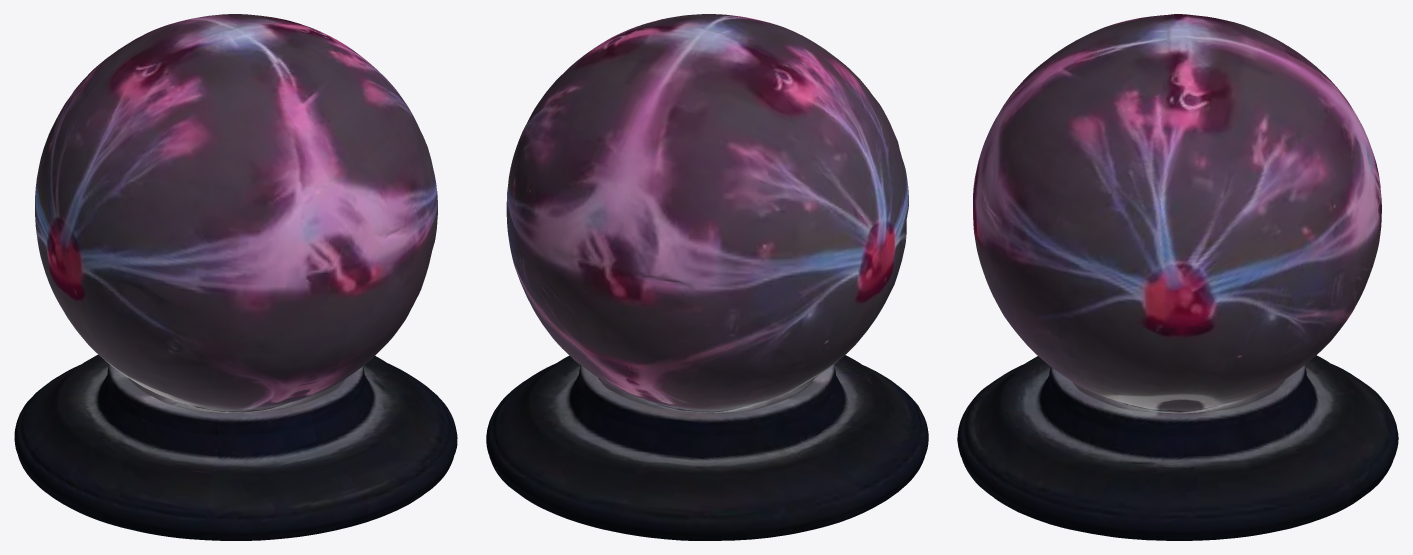
Rendered from fx_plasma_lamp.glb.
3 renders of one model, left to right at view 1: azimuth 30°, elevation 25°; view 2: azimuth 150°, elevation 25°; view 3: azimuth 270°, elevation 25°, orthographic.
Parts seen in each view (by area): view 1: tripo_node_247025ce-bbab-48e3-99cd-a0b2c39db489; view 2: tripo_node_247025ce-bbab-48e3-99cd-a0b2c39db489; view 3: tripo_node_247025ce-bbab-48e3-99cd-a0b2c39db489.
Boxes of the visible parts, left/top/right/bottom form: tripo_node_247025ce-bbab-48e3-99cd-a0b2c39db489: left=14, top=14, right=457, bottom=540; tripo_node_247025ce-bbab-48e3-99cd-a0b2c39db489: left=486, top=14, right=928, bottom=540; tripo_node_247025ce-bbab-48e3-99cd-a0b2c39db489: left=957, top=14, right=1398, bottom=540.
Bounding box in the file's own units: 0.9076 × 0.9489 × 0.9105.
Materials: 1 (1 with a texture image).
